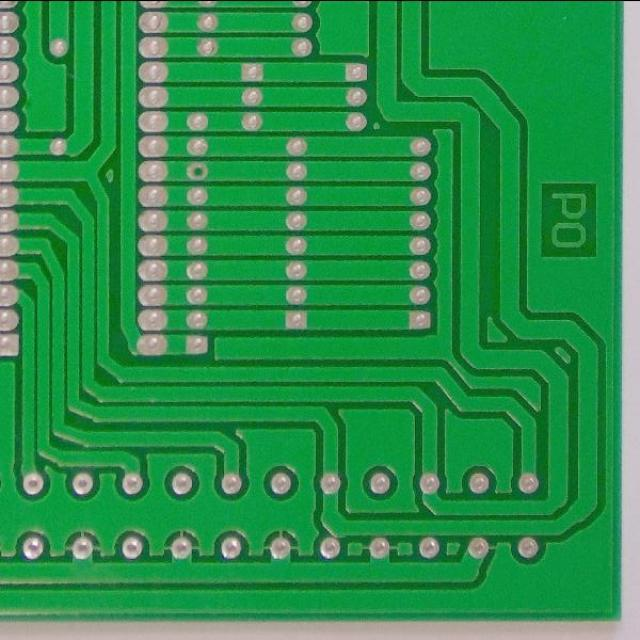Missing_Hole: (185, 159, 209, 181)
